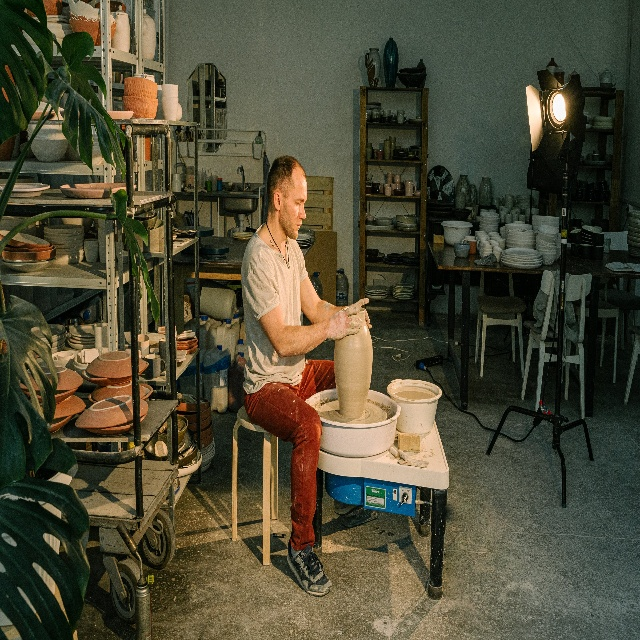Sin_guantes: (327, 306, 362, 340), (348, 297, 373, 329)
